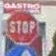stop: (4, 7, 40, 44)
